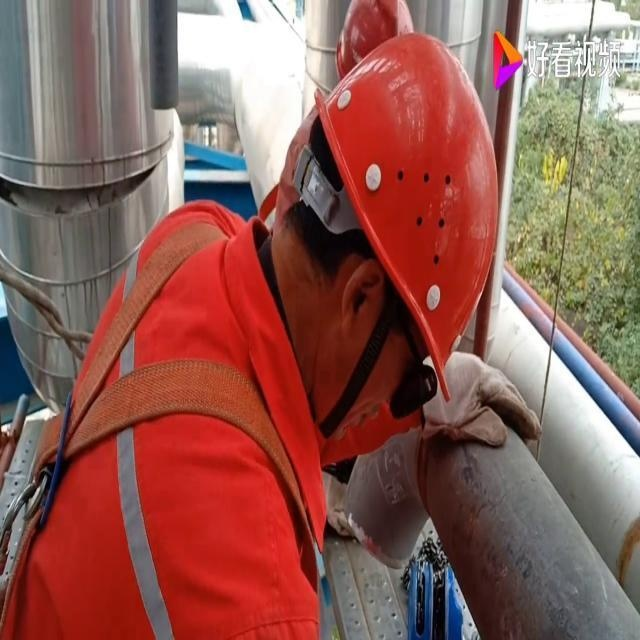Arnes_seguridad: (0, 201, 331, 639)
